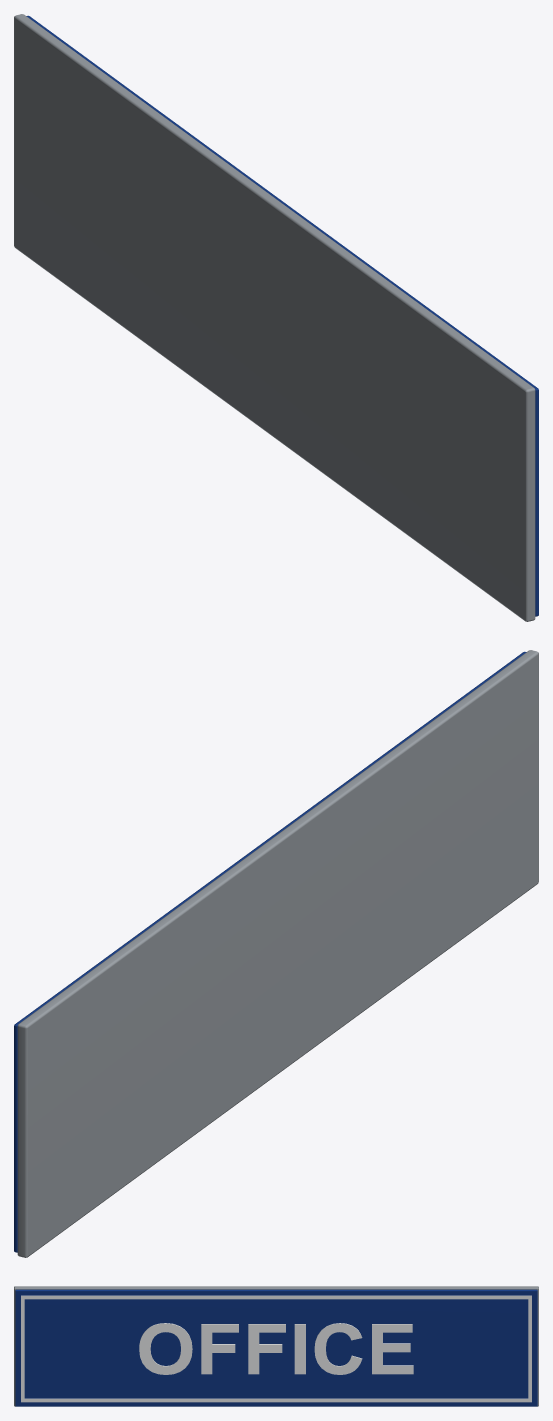
File: sign_office.glb
The picture shows the model from 3 angles, top to bottom: view 1: azimuth 30°, elevation 25°; view 2: azimuth 150°, elevation 25°; view 3: azimuth 270°, elevation 25°; orthographic projection. The views are drawn at different scales.
Visible parts, largest first — view 1: sign_office; view 2: sign_office; view 3: sign_office.
Boxes of the visible parts, box(x1,y1,x2,y2) form: sign_office: box(14, 14, 538, 621); sign_office: box(14, 650, 538, 1257); sign_office: box(14, 1286, 538, 1406).
Bounding box in the file's own units: 0.0225 × 0.3 × 1.2.
